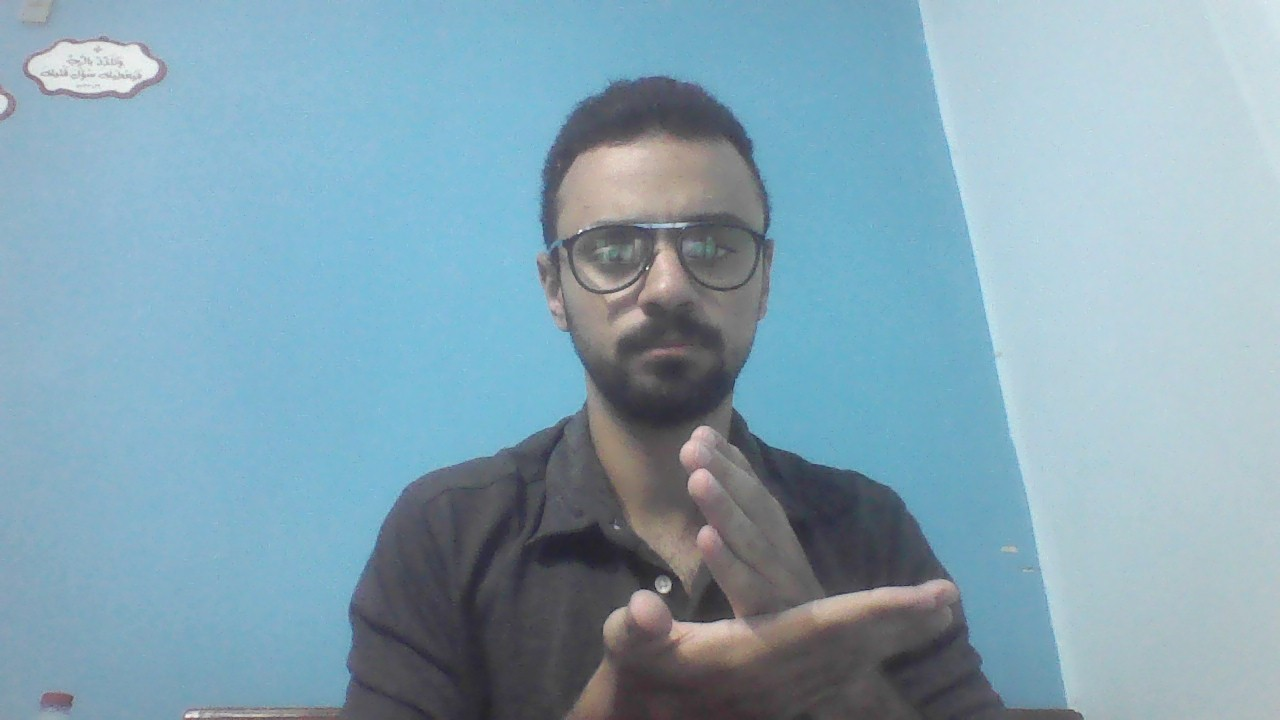stop: (603, 420, 957, 713)
